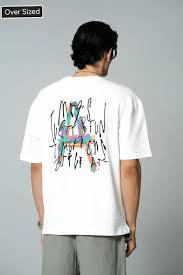tshirt: (18, 73, 154, 237)
